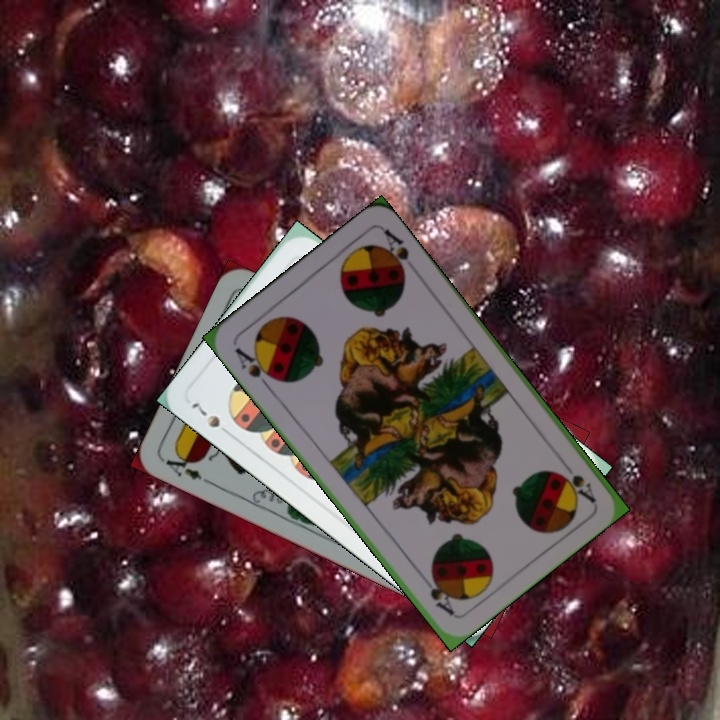EA: (161, 447, 215, 487)
S7: (187, 398, 235, 440)
SA: (231, 343, 280, 392), (557, 455, 598, 506)
